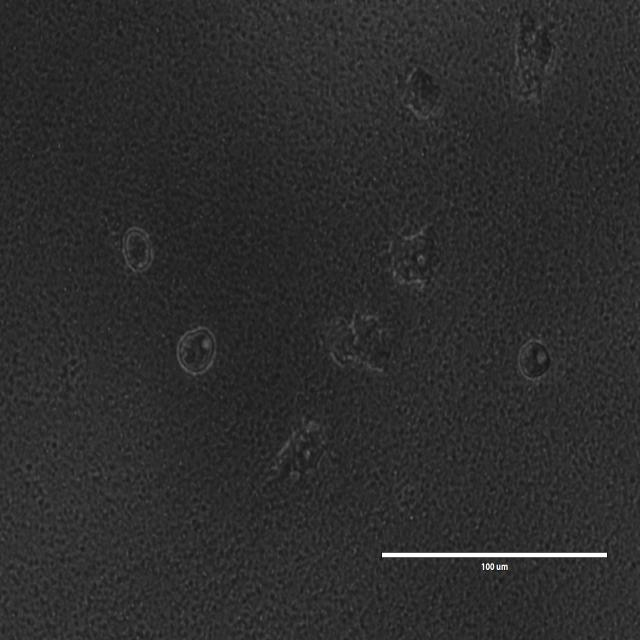Amoeba: (266, 418, 332, 494), (325, 320, 390, 382), (516, 6, 554, 108), (383, 223, 437, 289), (398, 59, 448, 124), (178, 325, 214, 376), (518, 336, 552, 386), (126, 226, 151, 273)
